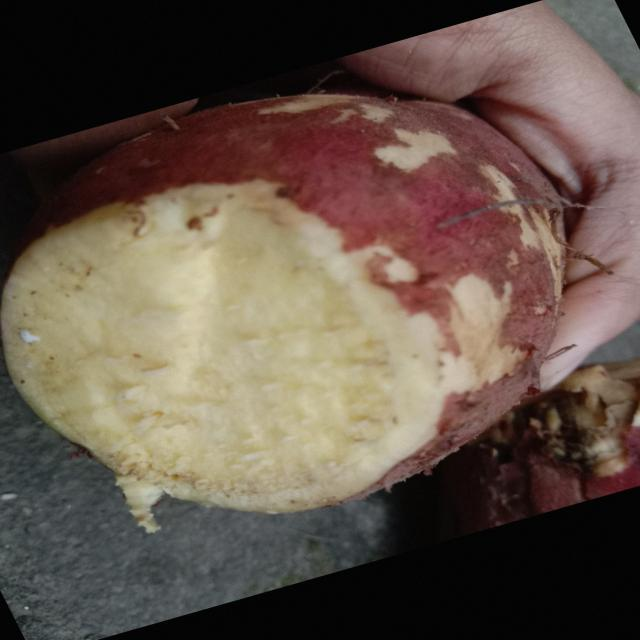Healthy Sweet Potato: (3, 180, 458, 512)
